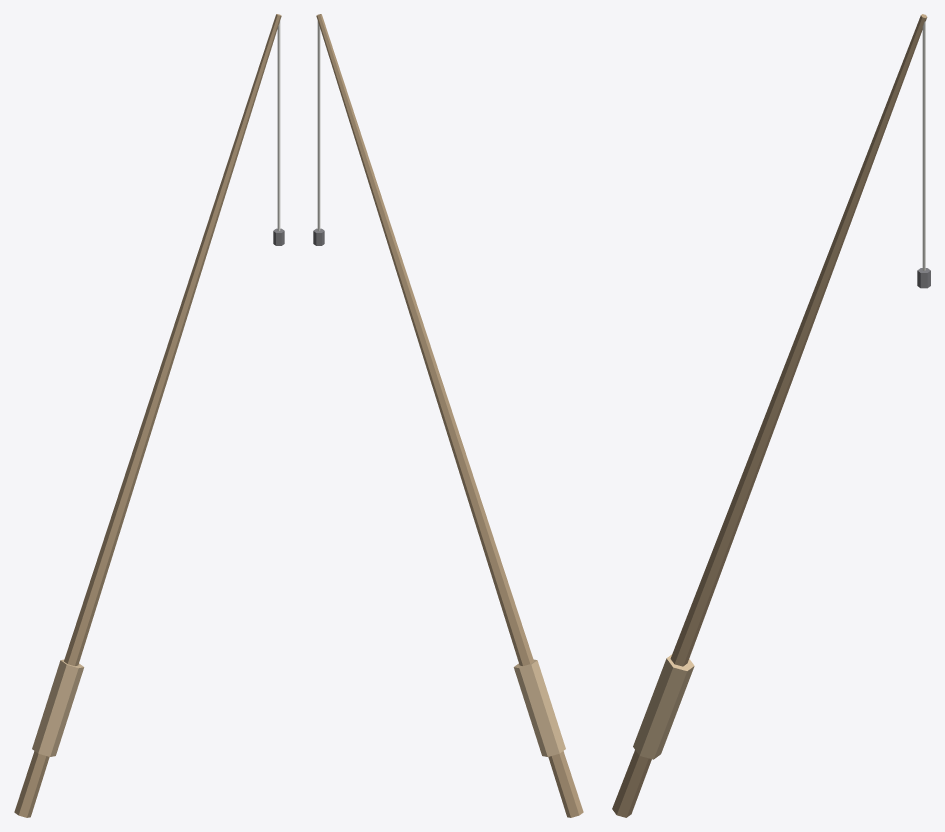
The model's file is prop-fishing-rod-lean-fi1.fbx.
The picture shows the model from 3 angles, left to right: view 1: azimuth 30°, elevation 25°; view 2: azimuth 150°, elevation 25°; view 3: azimuth 330°, elevation 25°; orthographic projection. The views are drawn at different scales.
Visible parts, largest first — view 1: prop-fishing-rod-lean-fi1; view 2: prop-fishing-rod-lean-fi1; view 3: prop-fishing-rod-lean-fi1.
Part boxes in pixels (bbox=[...]): prop-fishing-rod-lean-fi1: bbox=[14, 14, 284, 817]; prop-fishing-rod-lean-fi1: bbox=[313, 14, 583, 817]; prop-fishing-rod-lean-fi1: bbox=[612, 14, 930, 817].
Bounding box in the file's own units: 64.07 × 170 × 5.2.
